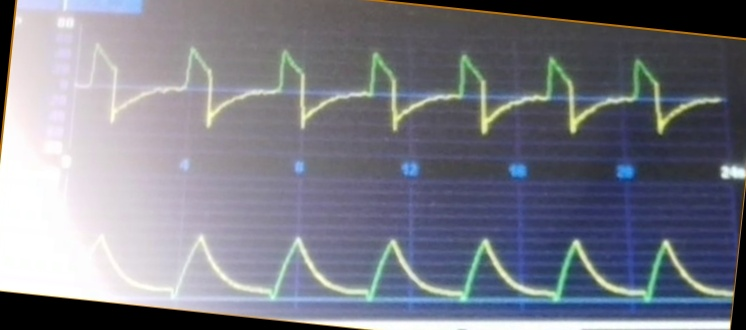Flow: (79, 43, 719, 143)
Leakage Volume: (95, 234, 728, 306)
